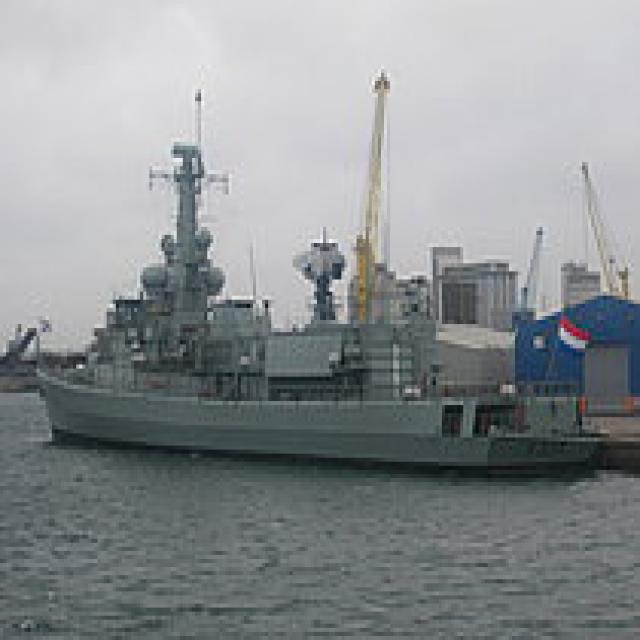Warship: (28, 138, 606, 470)
